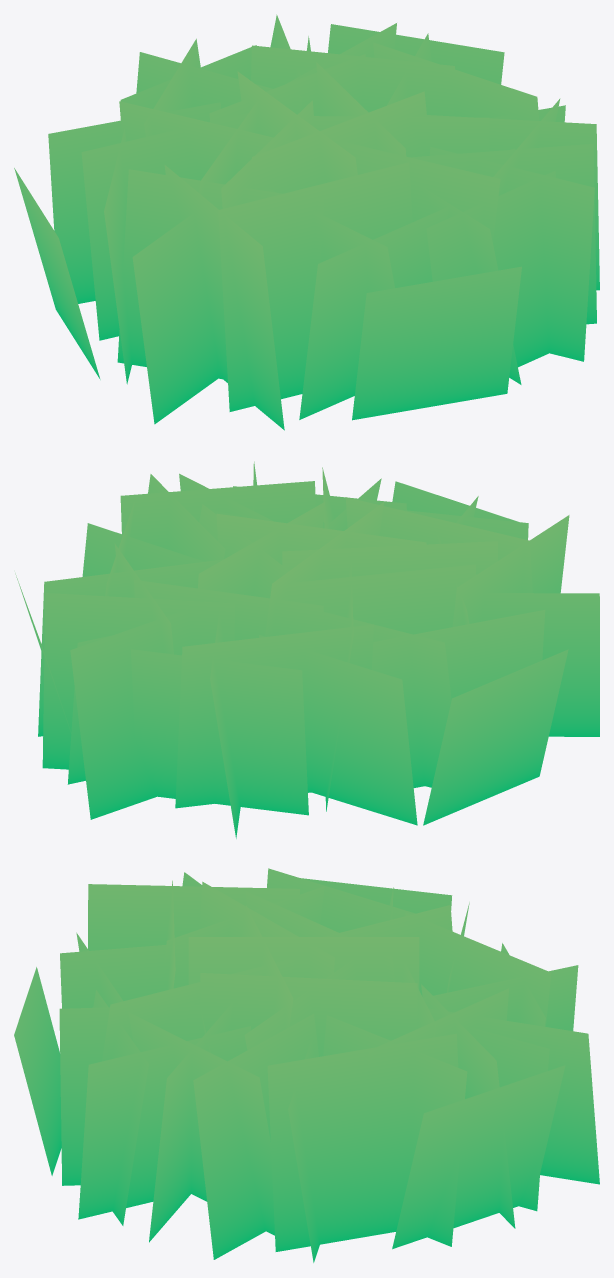
Rendered from Grass_0.6m_C_01.fbx.
3 views of the same model, one above another, from view 1: azimuth 30°, elevation 25°; view 2: azimuth 150°, elevation 25°; view 3: azimuth 270°, elevation 25° (orthographic). The views are drawn at different scales.
Parts seen in each view (by area): view 1: Grass_0.6m_C_01_LOD0; view 2: Grass_0.6m_C_01_LOD0; view 3: Grass_0.6m_C_01_LOD0.
Boxes of the visible parts, left/top/right/bottom form: Grass_0.6m_C_01_LOD0: left=14, top=14, right=599, bottom=430; Grass_0.6m_C_01_LOD0: left=15, top=461, right=599, bottom=838; Grass_0.6m_C_01_LOD0: left=14, top=868, right=599, bottom=1262.
Size of what is drawn, in the model's own units: 1.57 by 0.5982 by 1.58.
